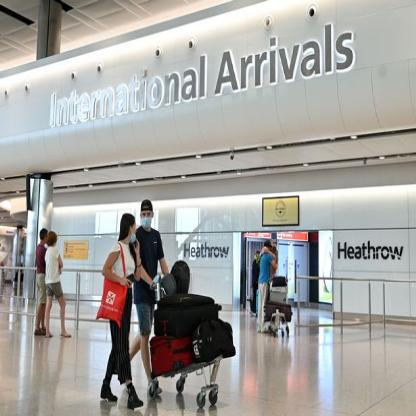airport-trolley: (146, 273, 228, 412), (267, 276, 293, 336)
